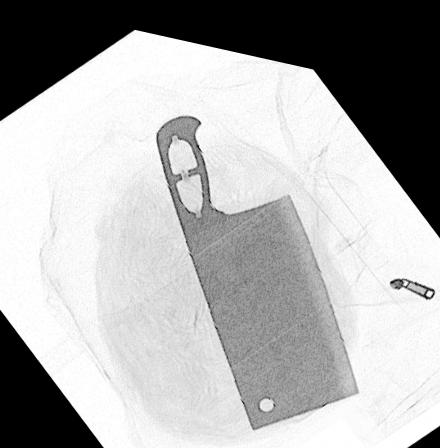Knife: (153, 103, 362, 420)
